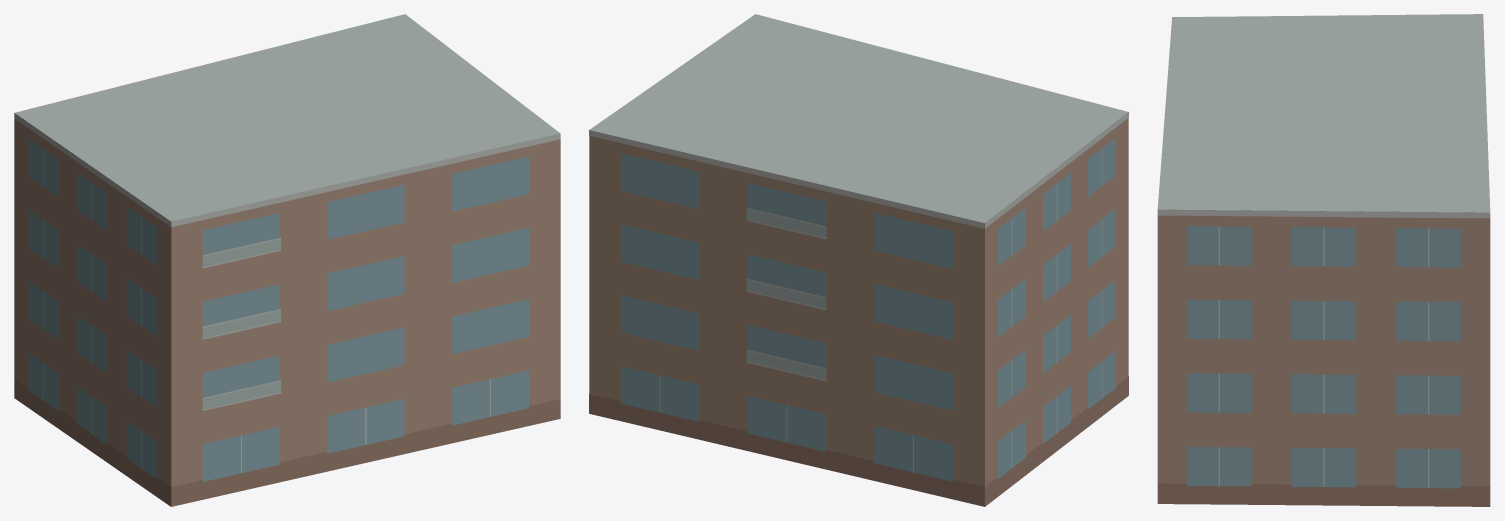
Rendered from residential-eca47510-8d4d-43e4-82c8-275168801ca5.glb.
The picture shows the model from 3 angles, left to right: view 1: azimuth 30°, elevation 25°; view 2: azimuth 150°, elevation 25°; view 3: azimuth 270°, elevation 25°; orthographic projection. The views are drawn at different scales.
Parts seen in each view (by area): view 1: residential-eca47510-8d4d-43e4-82c8-275168801ca5.tmp; view 2: residential-eca47510-8d4d-43e4-82c8-275168801ca5.tmp; view 3: residential-eca47510-8d4d-43e4-82c8-275168801ca5.tmp.
Boxes of the visible parts, x1,y1,x2,y2 form: residential-eca47510-8d4d-43e4-82c8-275168801ca5.tmp: (14, 14, 560, 506); residential-eca47510-8d4d-43e4-82c8-275168801ca5.tmp: (589, 14, 1128, 506); residential-eca47510-8d4d-43e4-82c8-275168801ca5.tmp: (1157, 14, 1490, 506).
Size of the model in its own units: 17.66 by 12.2 by 12.51.
